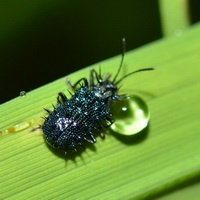insect: (0, 45, 153, 154), (42, 38, 153, 154)
